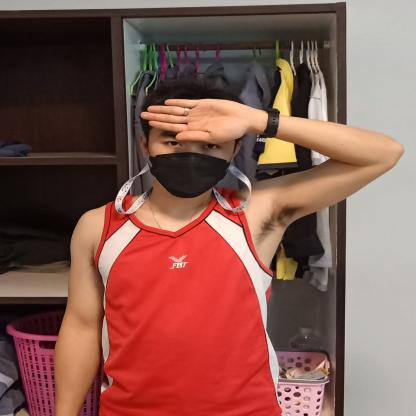Sick: (89, 87, 347, 179)
